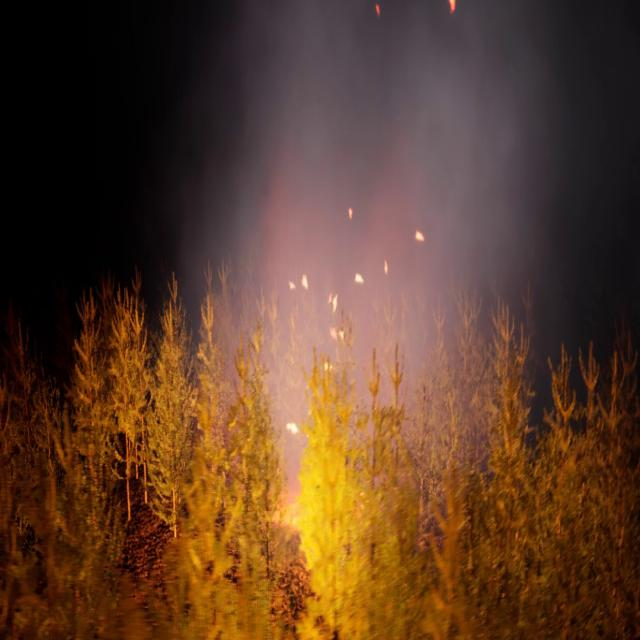fire: (252, 212, 433, 630)
smoke: (184, 0, 576, 462)
